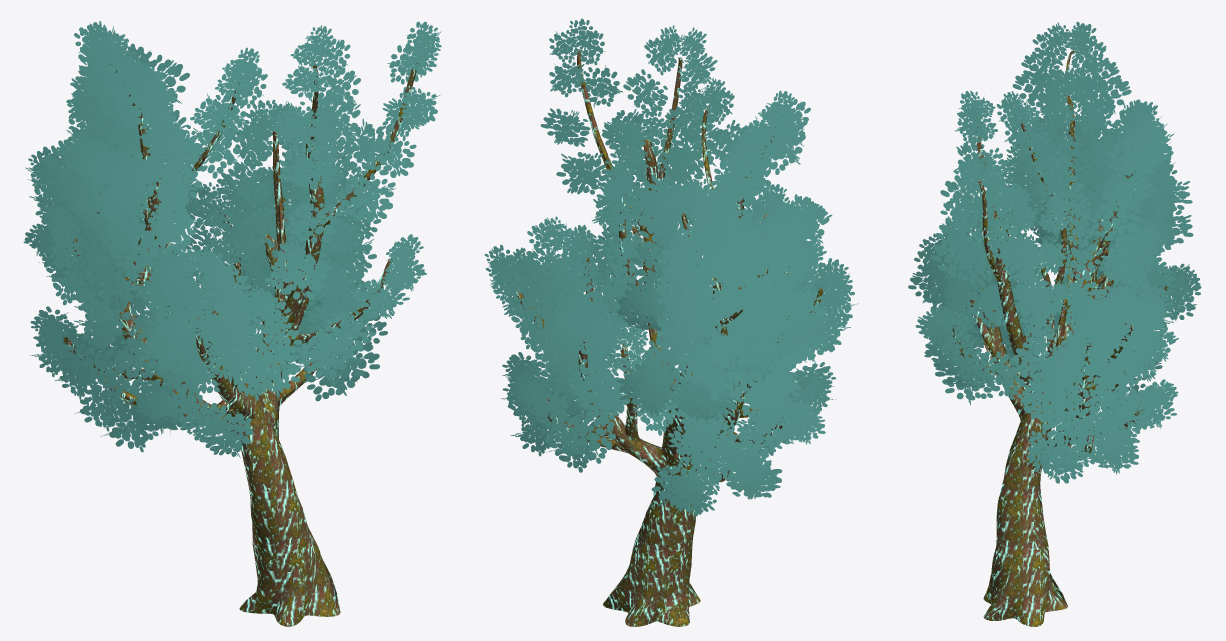
File: dtree_twisted_2.glb
3 views of the same model, side by side, from view 1: azimuth 30°, elevation 25°; view 2: azimuth 150°, elevation 25°; view 3: azimuth 270°, elevation 25° (orthographic). The views are drawn at different scales.
Parts seen in each view (by area): view 1: model; view 2: model; view 3: model.
Part boxes in pixels (bbox=[...]): model: bbox=[23, 21, 441, 626]; model: bbox=[484, 18, 858, 626]; model: bbox=[908, 21, 1201, 626].
Bounding box in the file's own units: 5.62 × 9.02 × 4.9.
2 materials, 2 textured.
